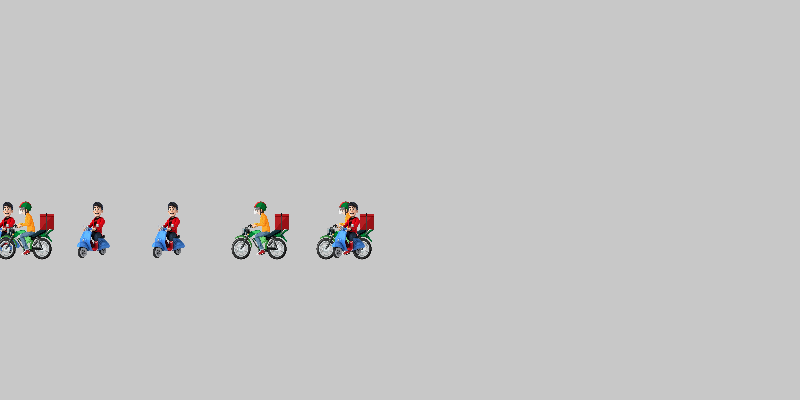helmet: (230, 200, 290, 260), (315, 200, 375, 260), (0, 200, 55, 260)
no_helmet: (65, 200, 125, 260), (140, 200, 200, 260), (320, 200, 380, 260), (0, 200, 35, 260)
